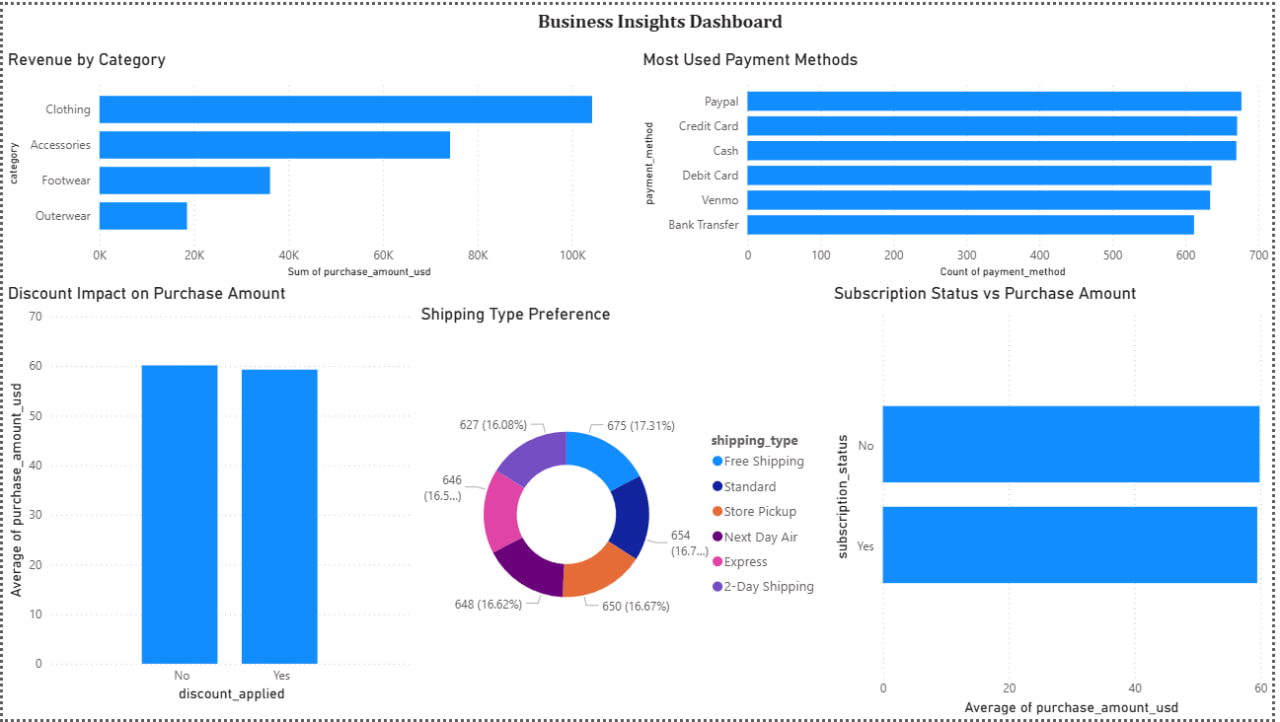

The page's visual inventory and layout, read from the dashboard file:
{"tool":"powerbi","page":{"name":"Business Insights","canvas":[1280,720],"ordinal":1},"visuals":[{"type":"barChart","title":"Revenue by Category","fields":{"Category":["Total Customers.category"],"Y":["Sum(Total Customers.purchase_amount_usd)"]},"box":[0,45,640,235],"z":0},{"type":"columnChart","title":"Discount Impact on Purchase Amount","fields":{"Category":["Total Customers.discount_applied"],"Y":["Avg(Total Customers.purchase_amount_usd)"]},"box":[0,280,416.7,426.7],"z":1000},{"type":"clusteredBarChart","title":"Subscription Status vs Purchase Amount","fields":{"Category":["Total Customers.subscription_status"],"Y":["Avg(Total Customers.purchase_amount_usd)"]},"box":[833.3,280,446.7,440],"z":2000},{"type":"barChart","title":"Most Used Payment Methods","fields":{"Category":["Total Customers.payment_method"],"Y":["CountNonNull(Total Customers.payment_method)"]},"box":[640,45,640,235],"z":3000},{"type":"donutChart","title":"Shipping Type Preference","fields":{"Category":["Total Customers.shipping_type"],"Y":["CountNonNull(Total Customers.shipping_type)"]},"box":[406,303,416.4,404.5],"z":4000},{"type":"textbox","box":[533.8,0,300,45],"z":5000}]}

Visuals, with their boxes in screenshot pixels (x1, y1, x2, y2), scaled from the page's 1280x720 canvas onto the 1280x722 screenshot:
"Revenue by Category" barChart: 0,45,640,281
"Discount Impact on Purchase Amount" columnChart: 0,281,417,709
"Subscription Status vs Purchase Amount" clusteredBarChart: 833,281,1279,721
"Most Used Payment Methods" barChart: 640,45,1279,281
"Shipping Type Preference" donutChart: 406,304,822,709
textbox: 534,0,834,45
